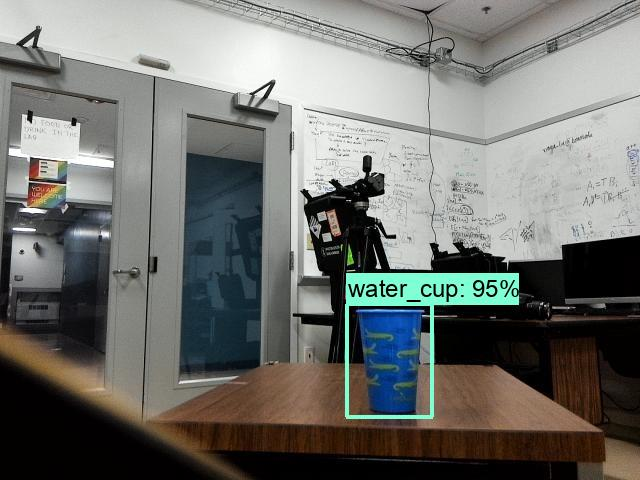water_cup: (345, 306, 433, 416)
